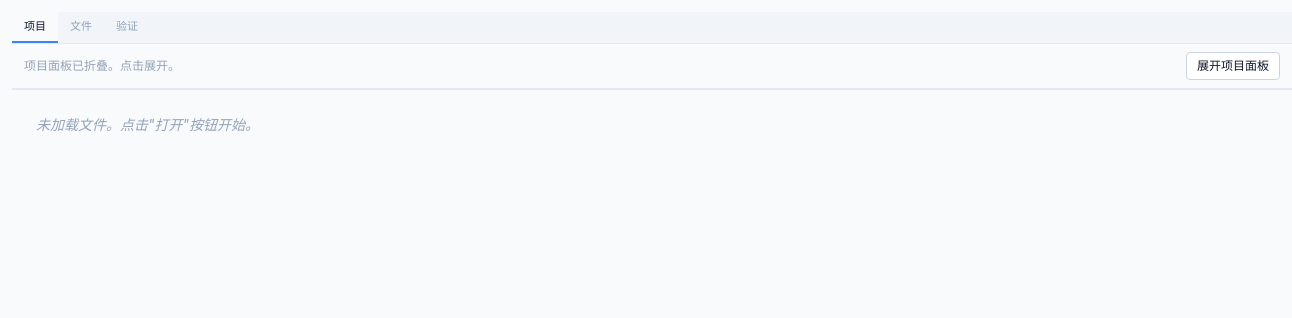
Test: LeftPanel — Project Tab Collapse/Expand (v1.55.0) › clicking the expand button in the placeholder restores the panel
This screenshot has width=1292, height=318.
Expected: the element with test id "left-pane-project-collapsed" is shown, top-left (12, 44), bottom-right (1291, 88)
What coordinates should you click on to do the following:
click the button with test id "left-pane-project-collapsed-expand"
I would click on:
 (1233, 66)
Its box is top-left (1186, 52), bottom-right (1280, 80).
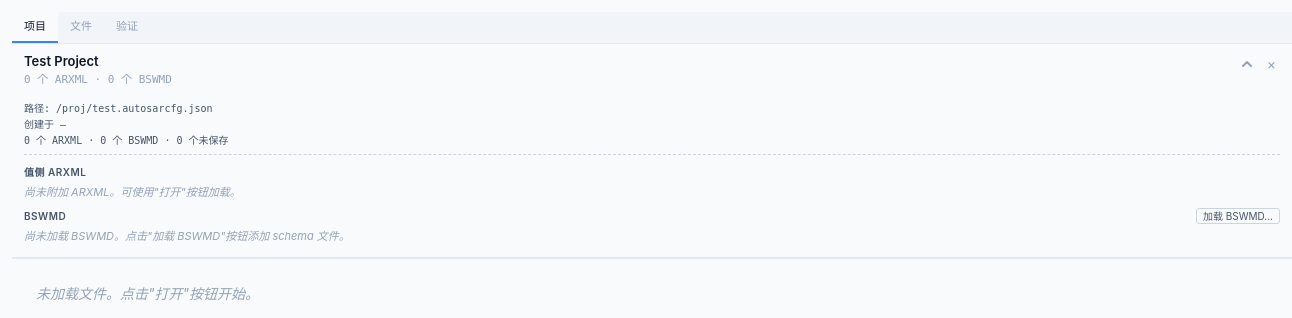
Expected: the element with test id "project-panel-open" is shown
